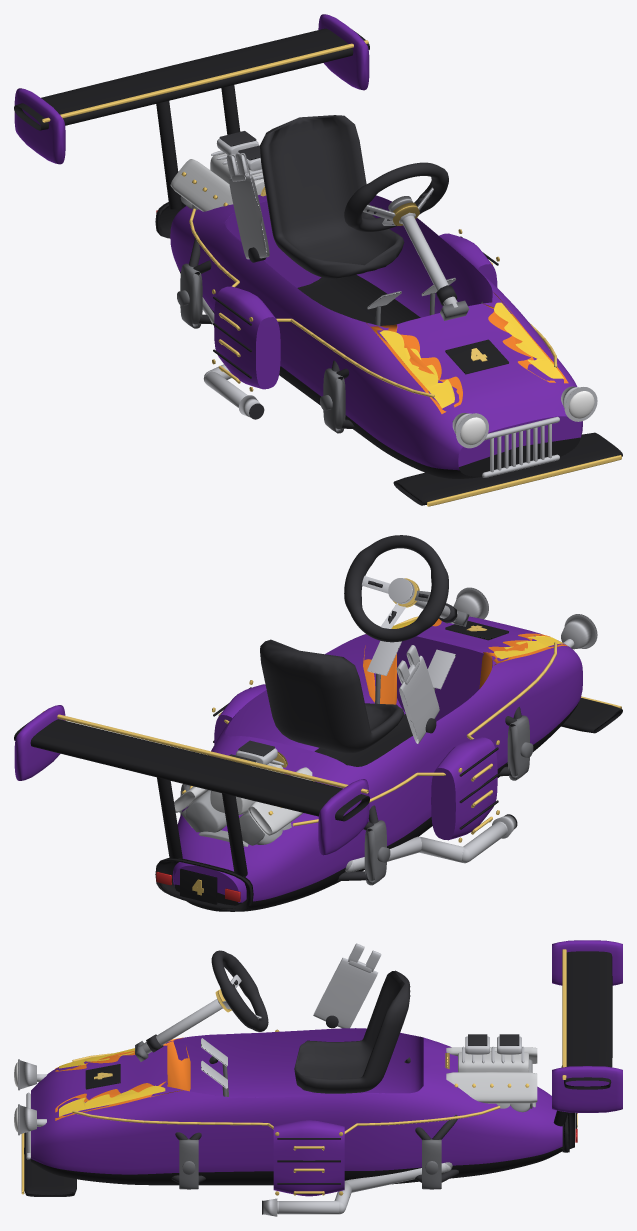
The model's file is Kart_StreetGT.fbx.
3 views of the same model, one above another, from view 1: azimuth 30°, elevation 25°; view 2: azimuth 150°, elevation 25°; view 3: azimuth 270°, elevation 25° (orthographic). The views are drawn at different scales.
Parts seen in each view (by area): view 1: Kart_Body, Kart_Details, Seat, Steering_Wheel; view 2: Kart_Details, Kart_Body, Seat, Steering_Wheel; view 3: Kart_Body, Kart_Details, Seat, Steering_Wheel.
Boxes of the visible parts, x1,y1,x2,y2 form: Kart_Body: (170,194,582,478); Kart_Details: (14,14,622,506); Seat: (260,115,404,279); Steering_Wheel: (344,162,457,307); Kart_Details: (14,587,622,910); Kart_Body: (172,616,582,911); Seat: (260,639,404,753); Steering_Wheel: (344,535,458,642); Kart_Body: (31,1028,562,1196); Kart_Details: (14,940,622,1216); Seat: (294,970,410,1093); Steering_Wheel: (138,950,268,1053).
Size of the model in its own units: 0.9094 by 0.6472 by 1.72.
